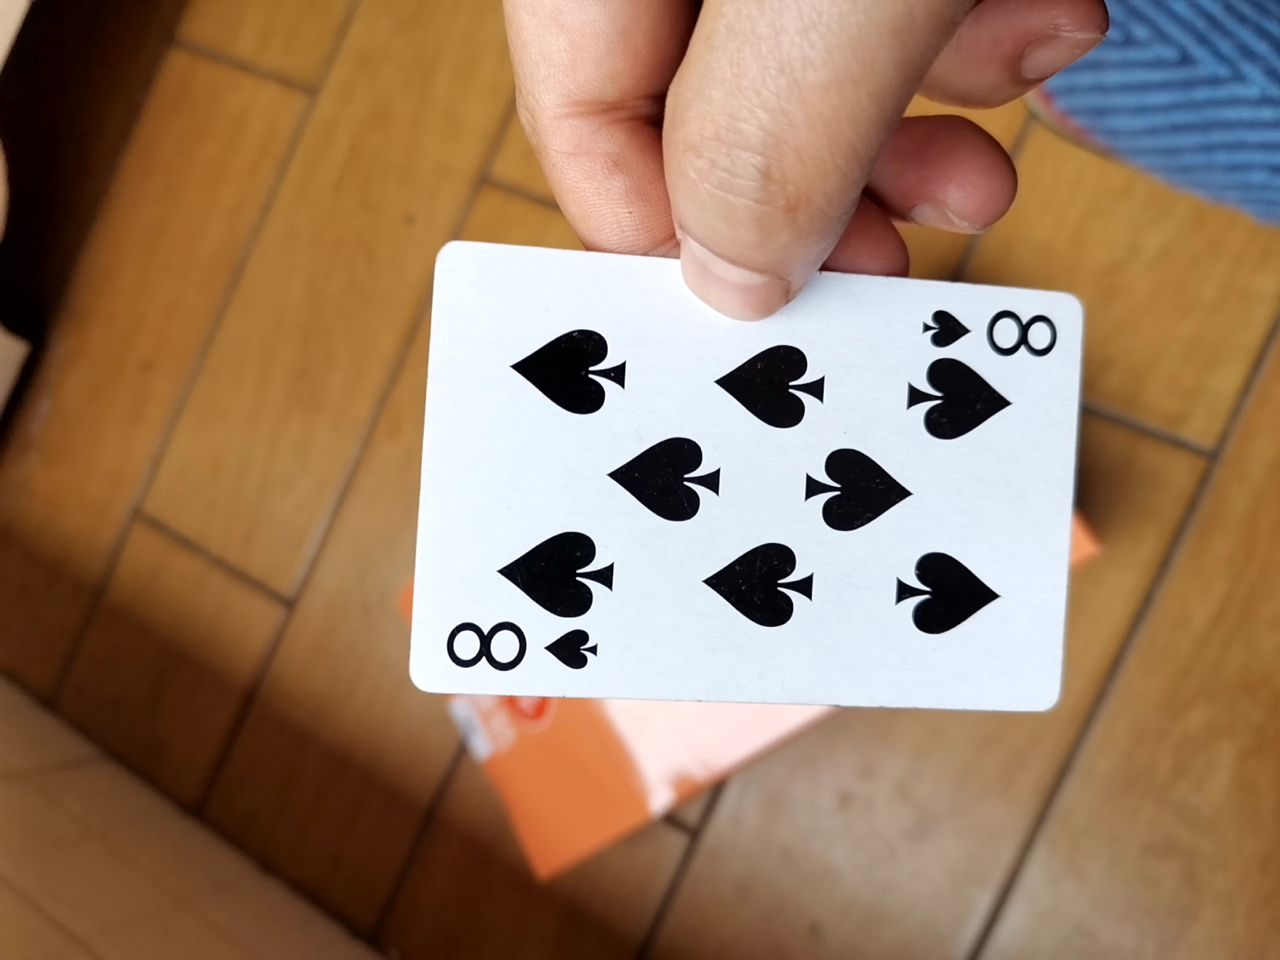ht 8: (382, 242, 1098, 750)
